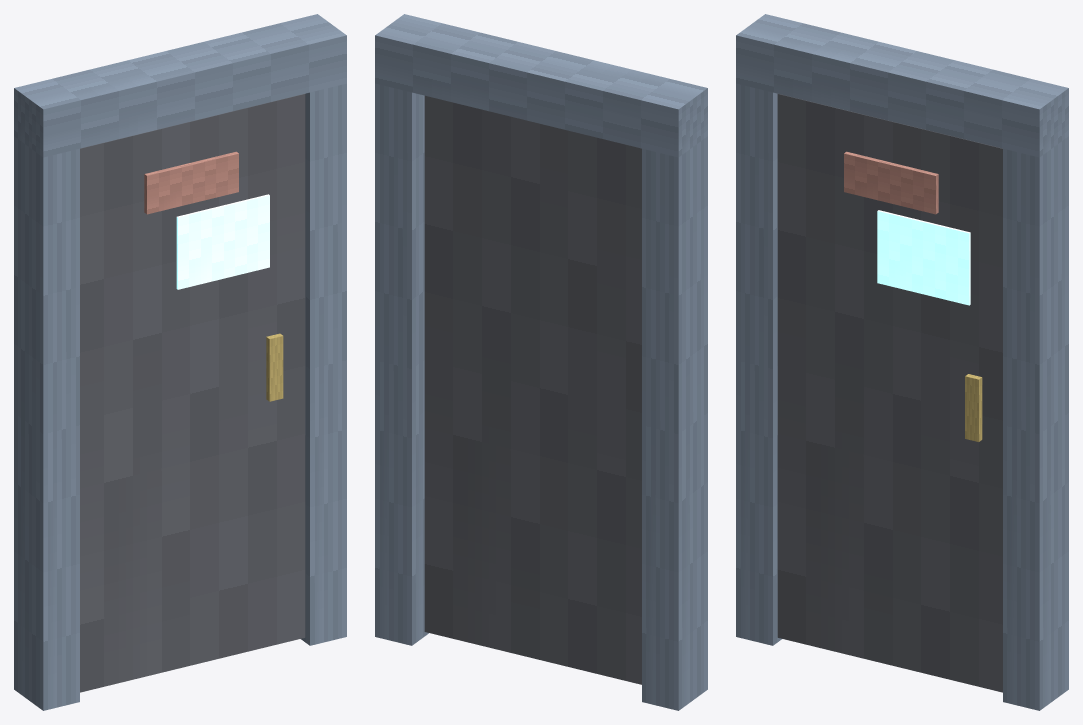
File: pixel-modern-supermarket-cash-office-door-ab897dee__28014.glb
3 views of the same model, side by side, from view 1: azimuth 30°, elevation 25°; view 2: azimuth 150°, elevation 25°; view 3: azimuth 330°, elevation 25° (orthographic).
Parts seen in each view (by area): view 1: door/charcoal, cash-office-door, door/cyan, door/coral, door/mustard; view 2: door/charcoal, cash-office-door; view 3: door/charcoal, cash-office-door, door/cyan, door/coral, door/mustard.
Boxes of the visible parts, x1,y1,x2,y2 form: door/charcoal: (80, 94, 305, 692); cash-office-door: (14, 14, 346, 710); door/cyan: (176, 194, 269, 289); door/coral: (144, 151, 238, 214); door/mustard: (266, 333, 283, 401); door/charcoal: (424, 95, 641, 684); cash-office-door: (375, 14, 707, 710); door/charcoal: (777, 94, 1002, 692); cash-office-door: (736, 14, 1068, 710); door/cyan: (877, 210, 970, 305); door/coral: (844, 151, 938, 214); door/mustard: (965, 374, 982, 441).
Bounding box in the file's own units: 1.32 × 2.5 × 0.22.
Materials: 5 (5 with a texture image).
